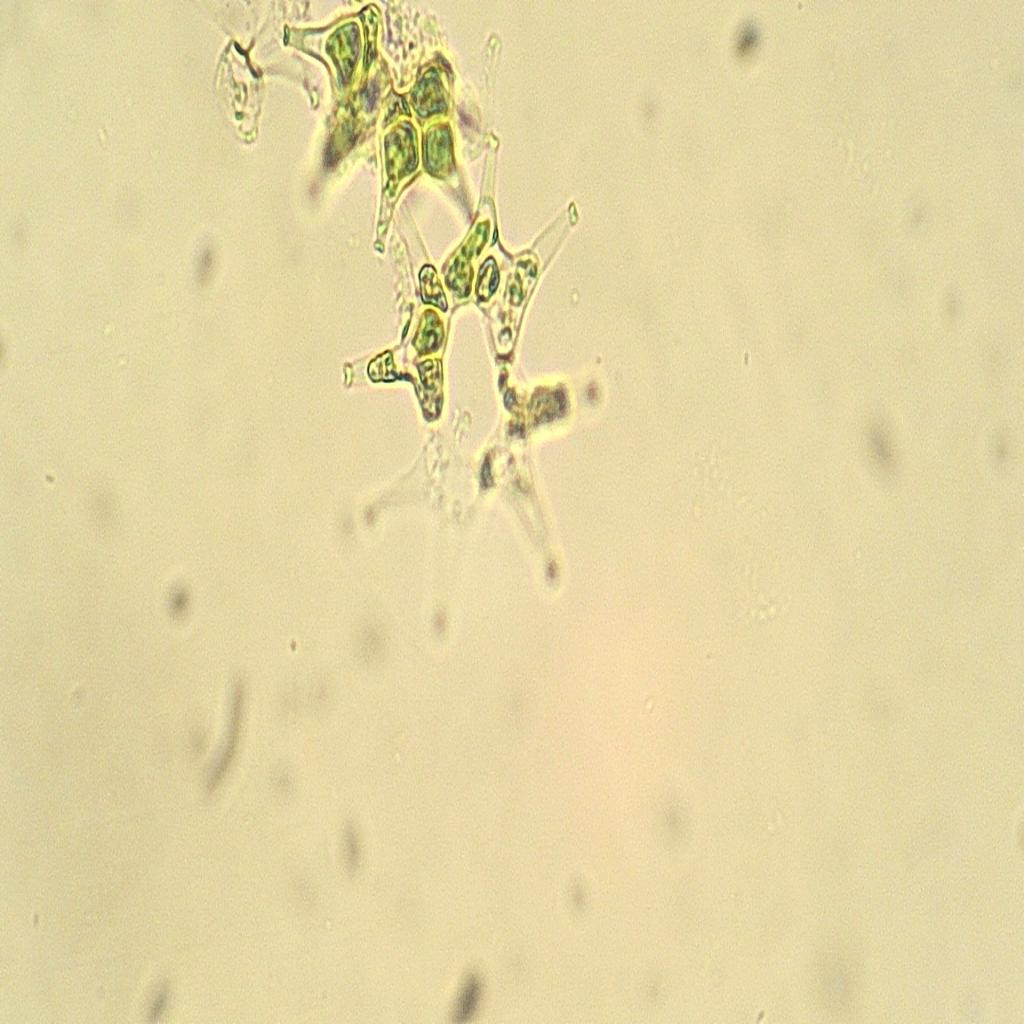Pediastrum_75TH: (314, 134, 622, 660)
